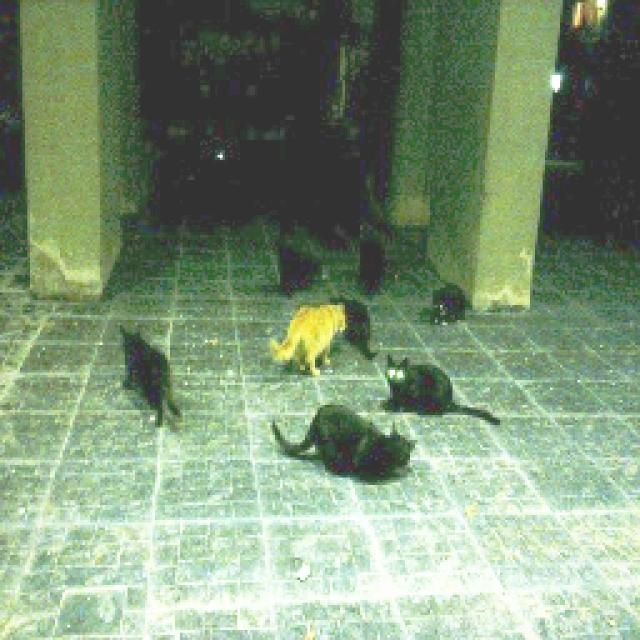cat: (259, 394, 433, 501), (107, 295, 196, 444), (380, 354, 499, 436), (261, 288, 352, 374), (306, 283, 398, 367), (263, 228, 335, 294), (418, 270, 484, 342), (352, 232, 419, 296)
